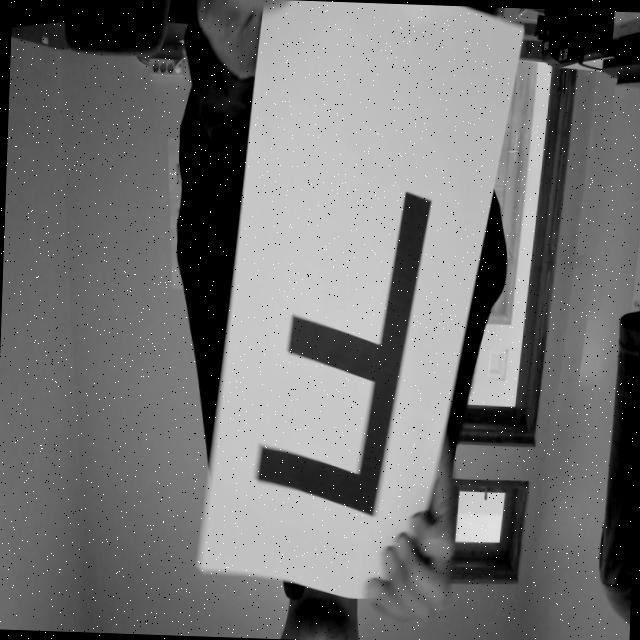f: (245, 116, 438, 556)
